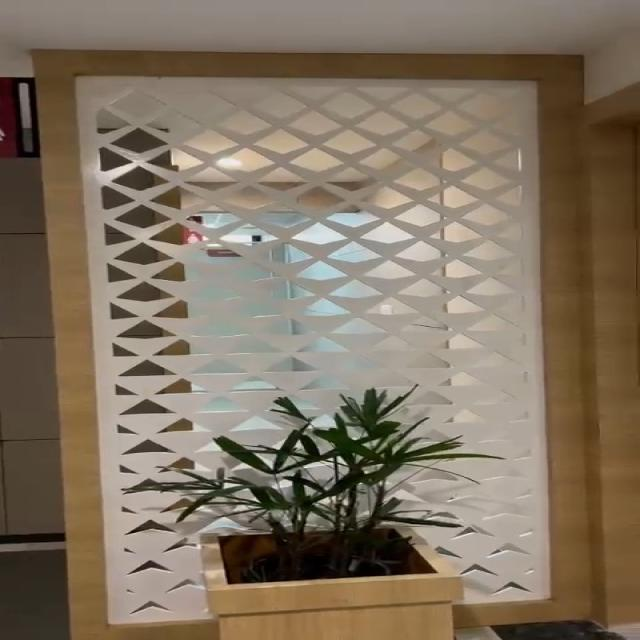furniture: (200, 408, 473, 640)
